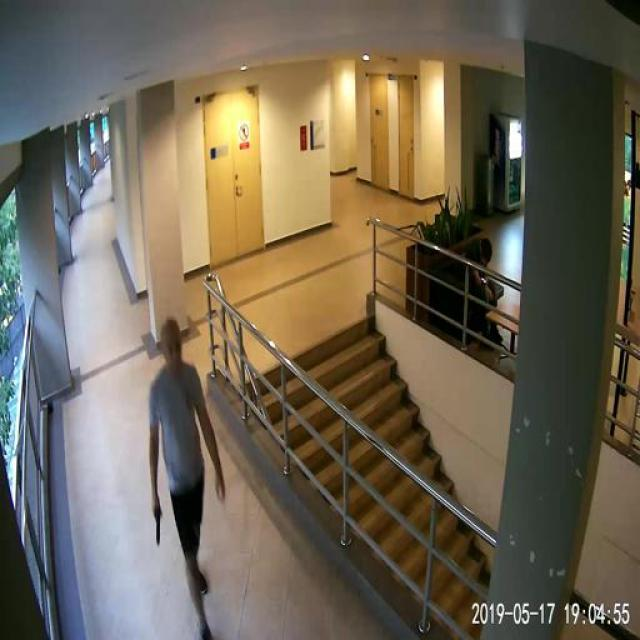Gun: (148, 497, 177, 549)
